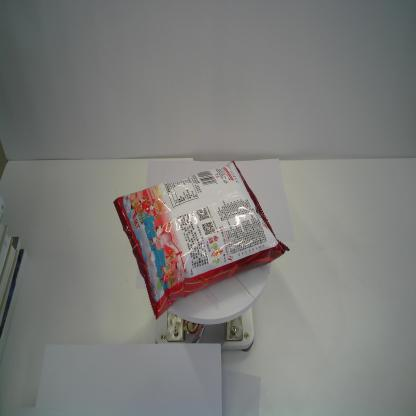Puffed Food: (112, 160, 291, 321)
